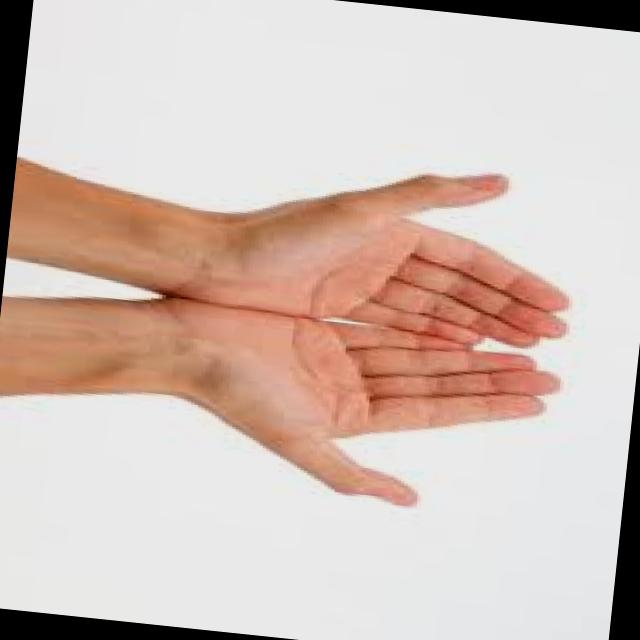Hand: (128, 292, 576, 526), (164, 139, 594, 358)
